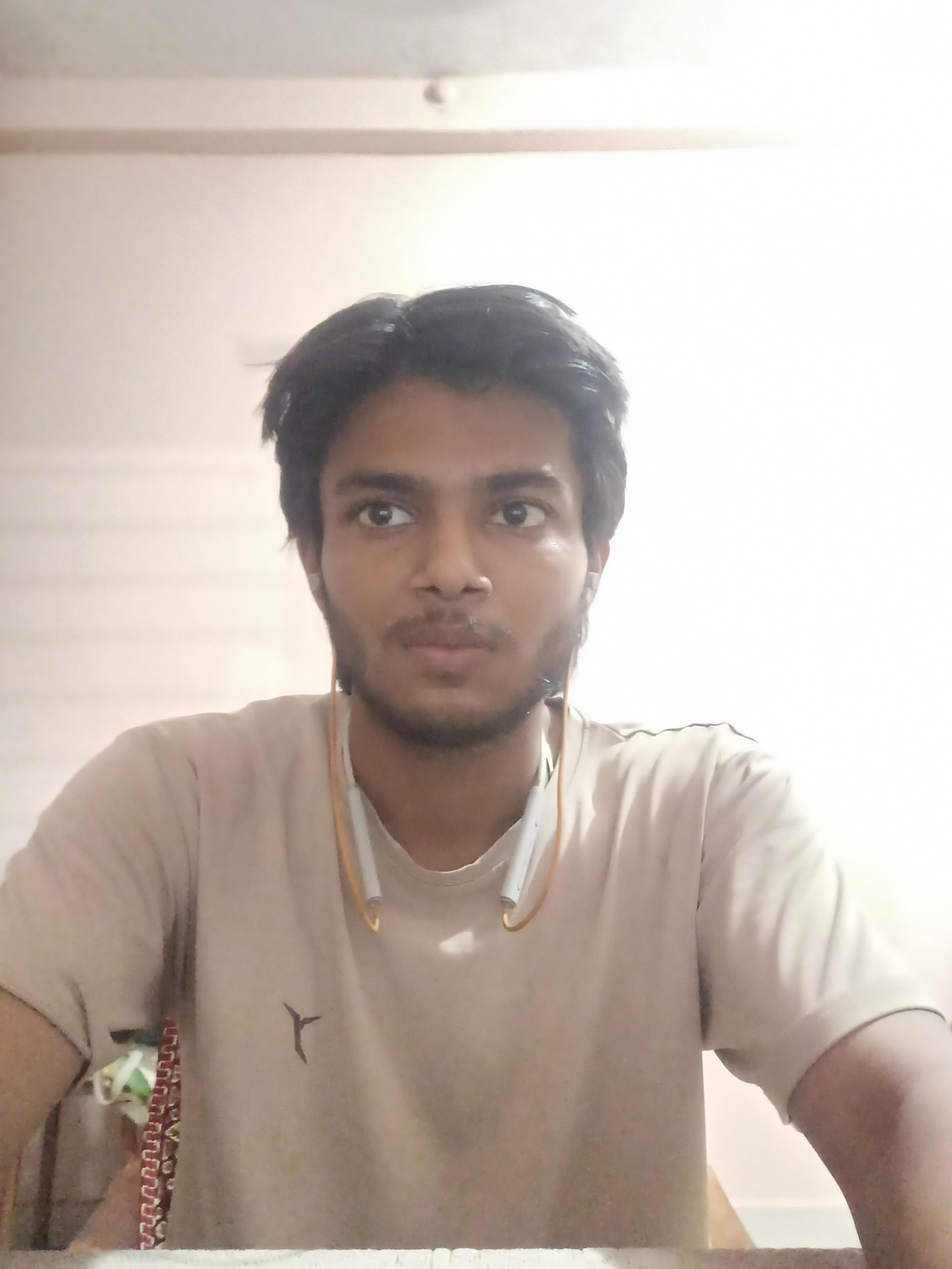Focused: (168, 250, 702, 857)
